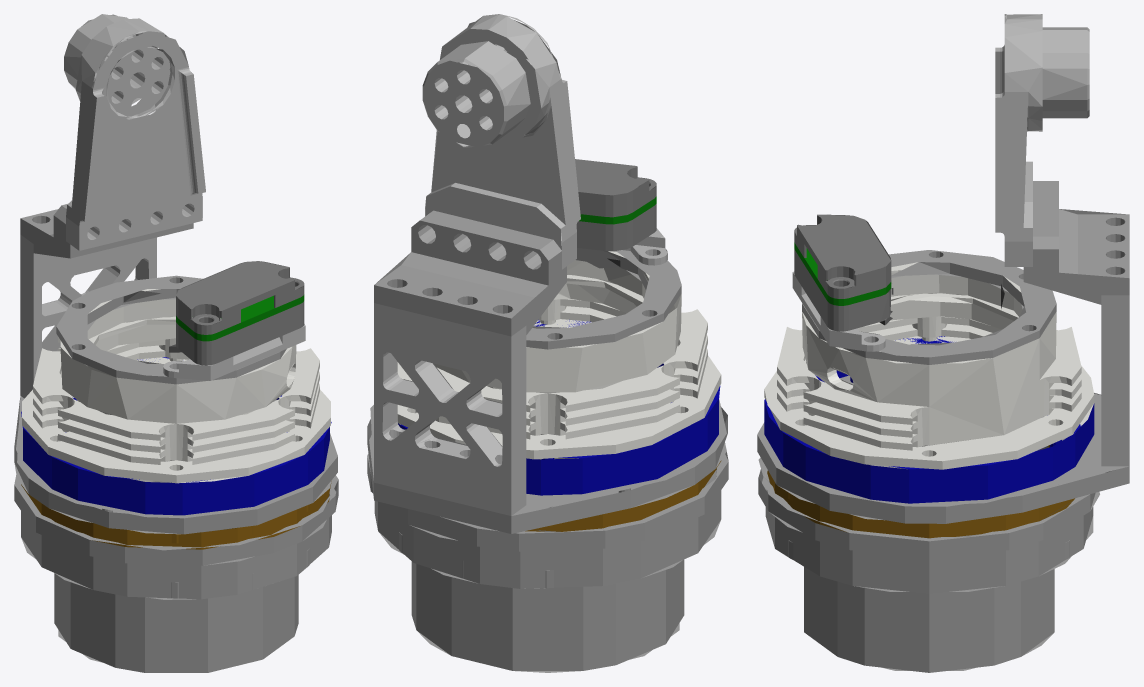
The model's file is ArmL_Sho3_joint_visu.dae.
3 renders of one model, left to right at view 1: azimuth 30°, elevation 25°; view 2: azimuth 150°, elevation 25°; view 3: azimuth 270°, elevation 25°, orthographic. The views are drawn at different scales.
Parts seen in each view (by area): view 1: Visualization_ALDof3; view 2: Visualization_ALDof3; view 3: Visualization_ALDof3.
Boxes of the visible parts, left/top/right/bottom form: Visualization_ALDof3: left=14, top=14, right=338, bottom=672; Visualization_ALDof3: left=367, top=14, right=728, bottom=672; Visualization_ALDof3: left=757, top=14, right=1129, bottom=672.
Size of the model in its own units: 0.073 by 0.079 by 0.1401.
